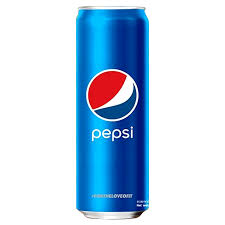pepsi_can: (74, 4, 151, 221)
